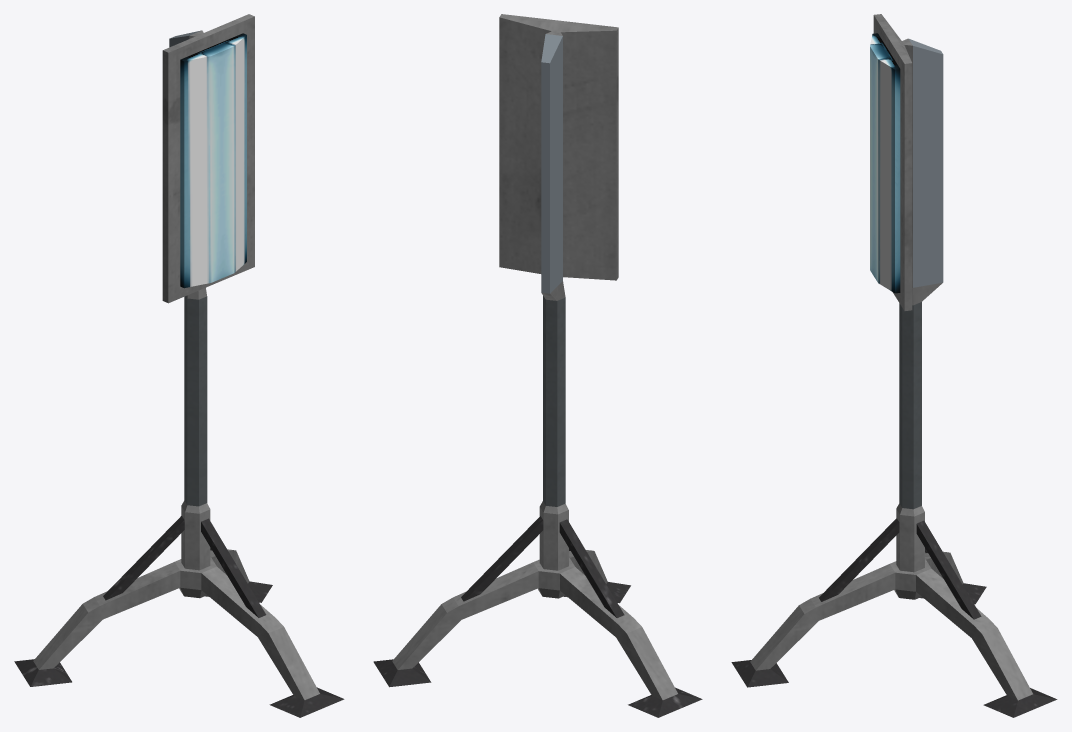
File: LampFloor.fbx
The picture shows the model from 3 angles, left to right: view 1: azimuth 30°, elevation 25°; view 2: azimuth 150°, elevation 25°; view 3: azimuth 270°, elevation 25°; orthographic projection.
Parts seen in each view (by area): view 1: LampFloor; view 2: LampFloor; view 3: LampFloor.
Part boxes in pixels (x1,y1,x2,y2): LampFloor: (14, 14, 344, 717); LampFloor: (373, 14, 702, 717); LampFloor: (731, 14, 1057, 717).
Bounding box in the file's own units: 112 × 234 × 112.
